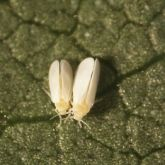Tobacco Whitefly: (68, 51, 103, 127), (41, 51, 70, 119)
